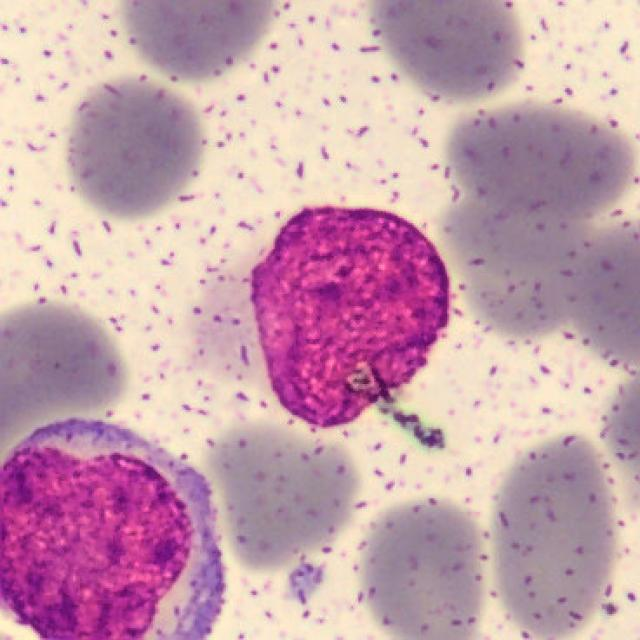Mieloblasto: (0, 420, 226, 640), (249, 206, 452, 431)
